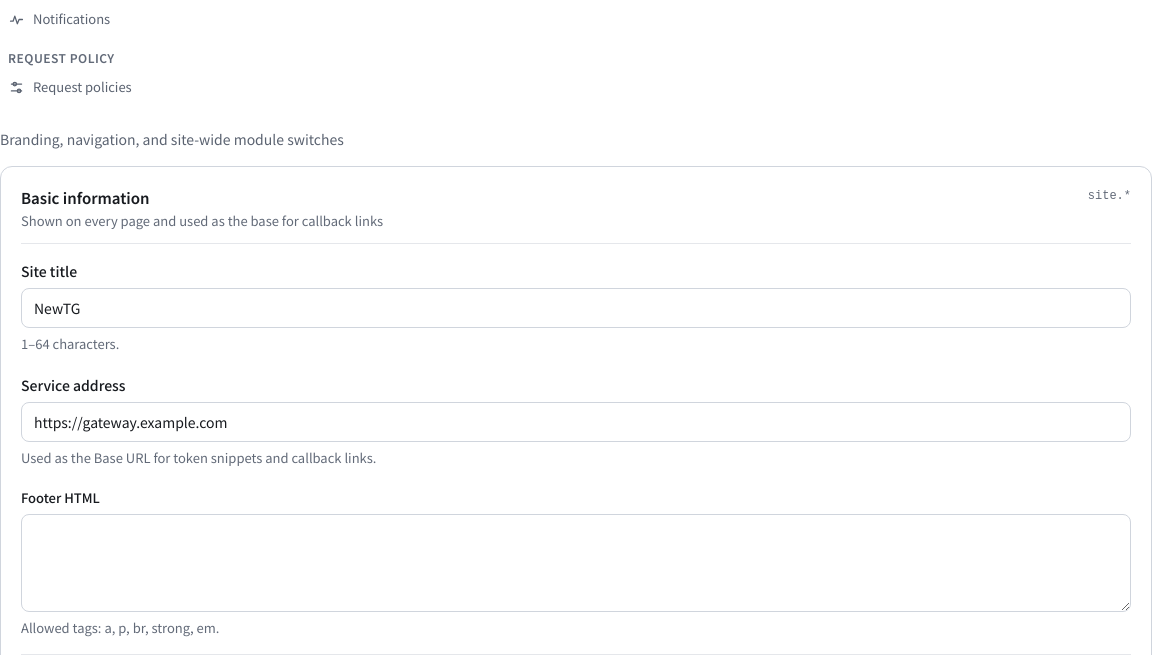
Test: SettingsShell contract › guards tab navigation when a section is dirty
(page scrolled)
Step 1. Type "!" into the field labelled "Site title" → [576, 308], box [21, 288, 1131, 328]
(page scrolled)
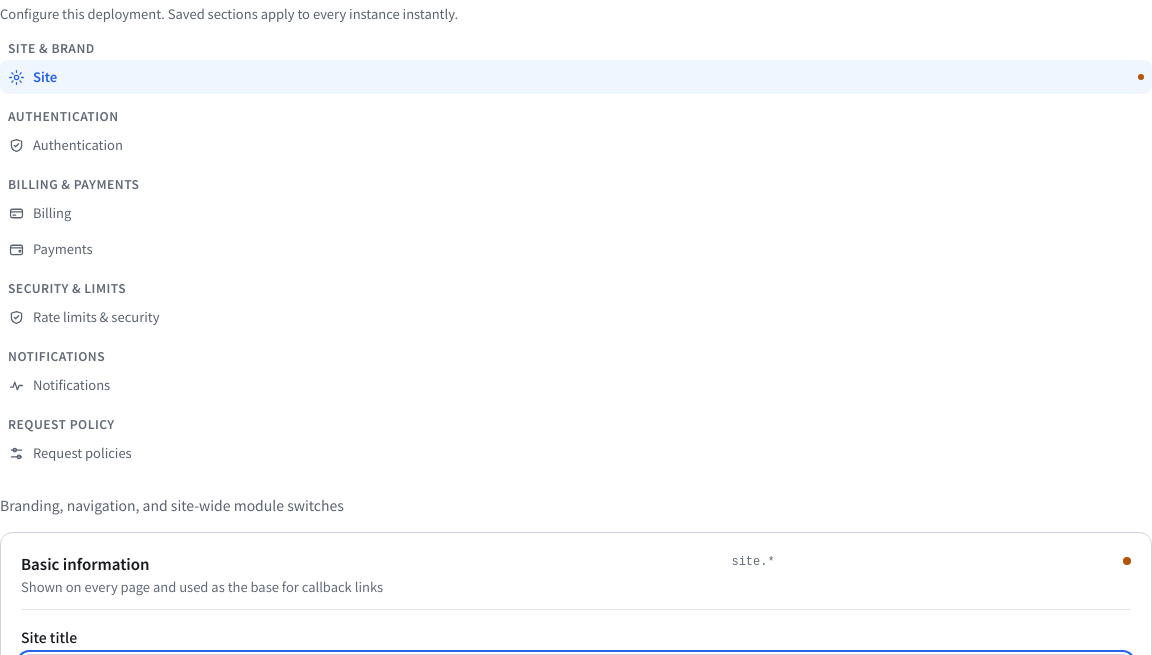
Step 2. Click the button "Billing" → [52, 212], box [0, 196, 1151, 230]
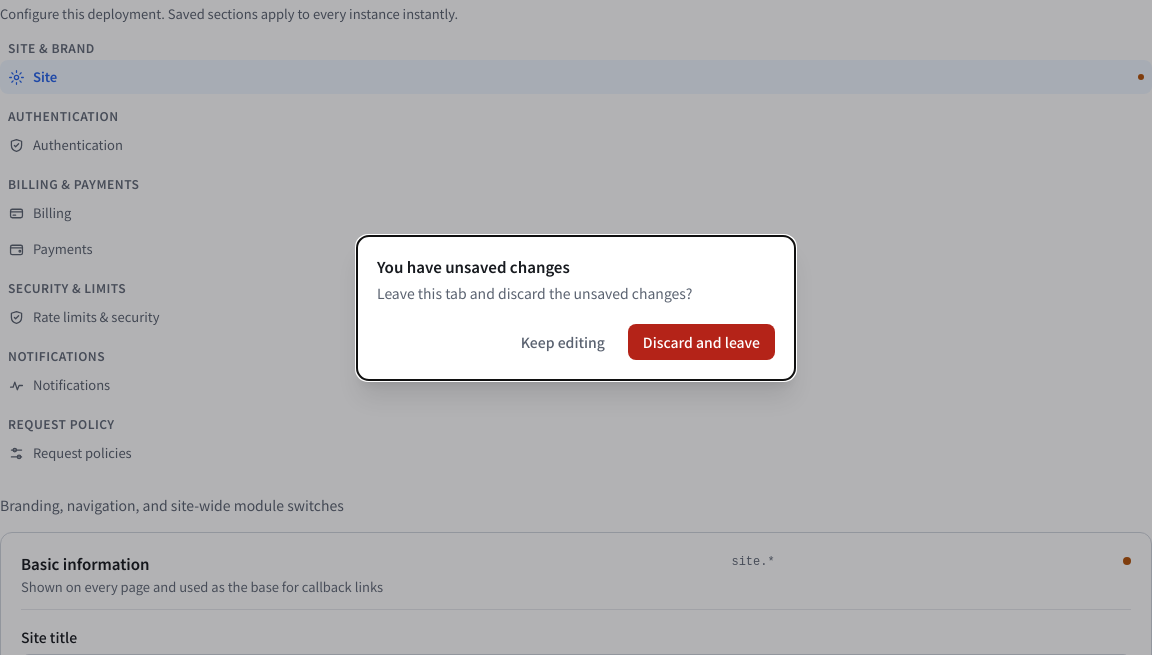
Now the heading "You have unsaved changes" is shown, box [377, 256, 570, 277]
Now the dialog is shown, box [356, 235, 796, 381]
Step 3. Click the button "Keep editing" → [563, 342], box [506, 324, 620, 360]
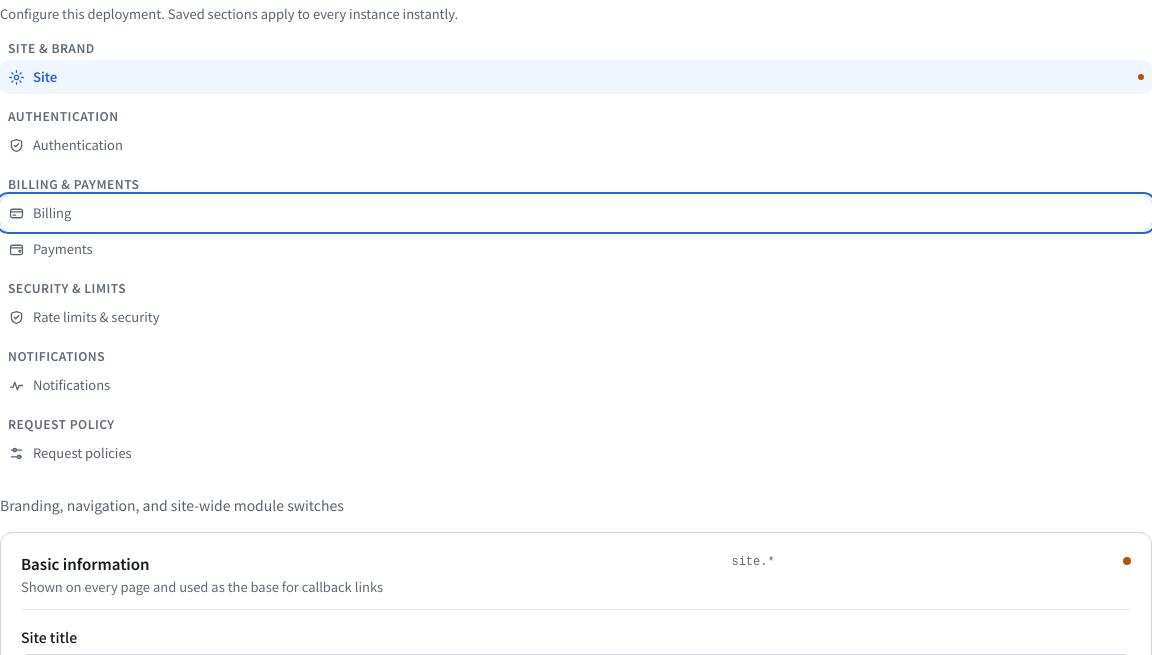
Now the heading "You have unsaved changes" is gone
